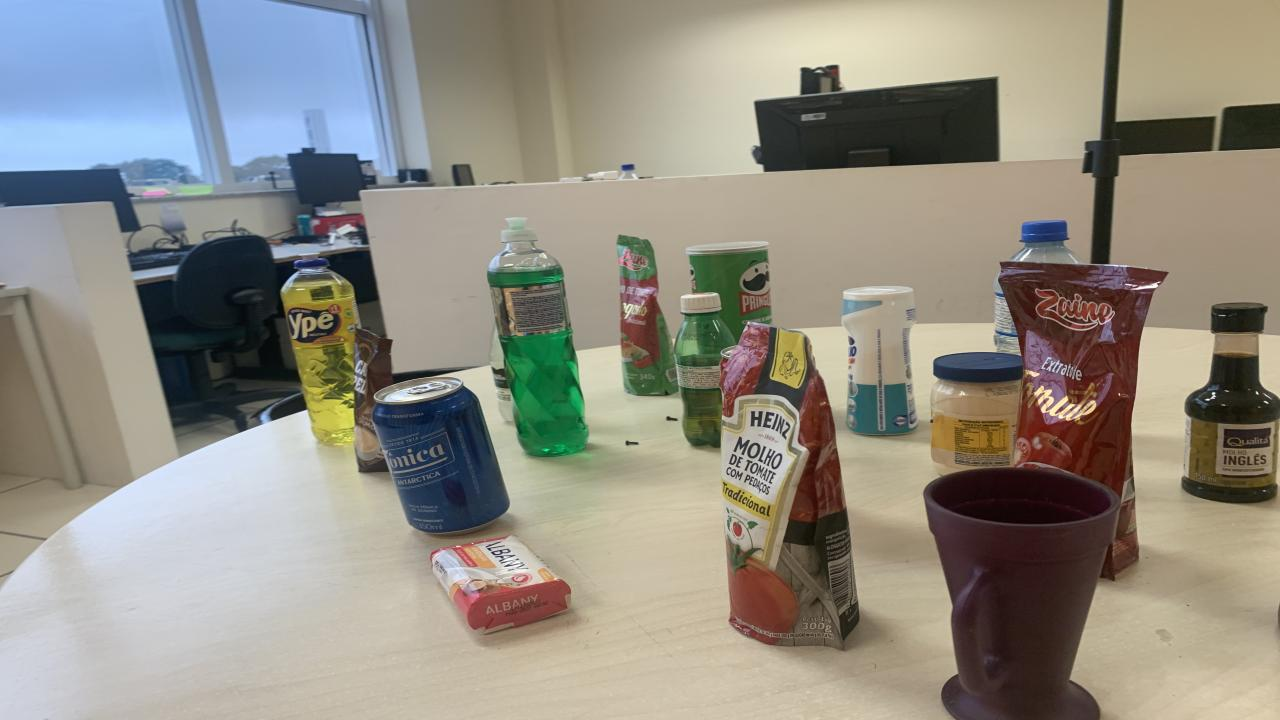Cleaner-Cleanup_Items: (840, 287, 918, 435)
Coffee-Pantry_Items: (352, 328, 392, 472)
Detergent-Cleanup_Items: (488, 218, 588, 456), (280, 257, 360, 444)
English_Sauce-Pantry_Items: (1182, 304, 1280, 502)
Guarana-Drinks: (675, 292, 735, 448)
Mayonnaise-Pantry_Items: (930, 352, 1022, 474)
Pringles-Snacks: (685, 242, 772, 339)
Soap-Cleanup_Items: (430, 536, 570, 634)
Soda-Drinks: (490, 330, 515, 422)
Tomato_Sauce-Pantry_Items: (1000, 262, 1168, 578), (720, 322, 860, 649), (618, 234, 678, 396)
Tonic-Drinks: (372, 377, 510, 534)
Water_Bottle-Drinks: (1010, 219, 1080, 264), (992, 278, 1020, 354)
